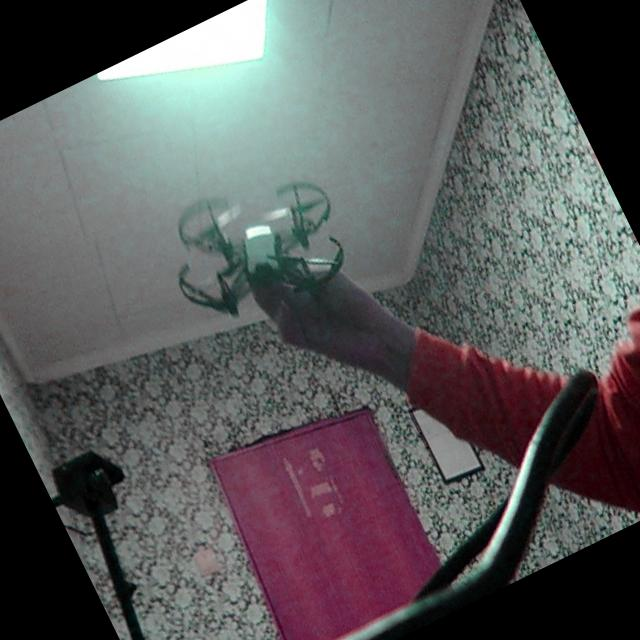drone: (134, 127, 379, 355)
